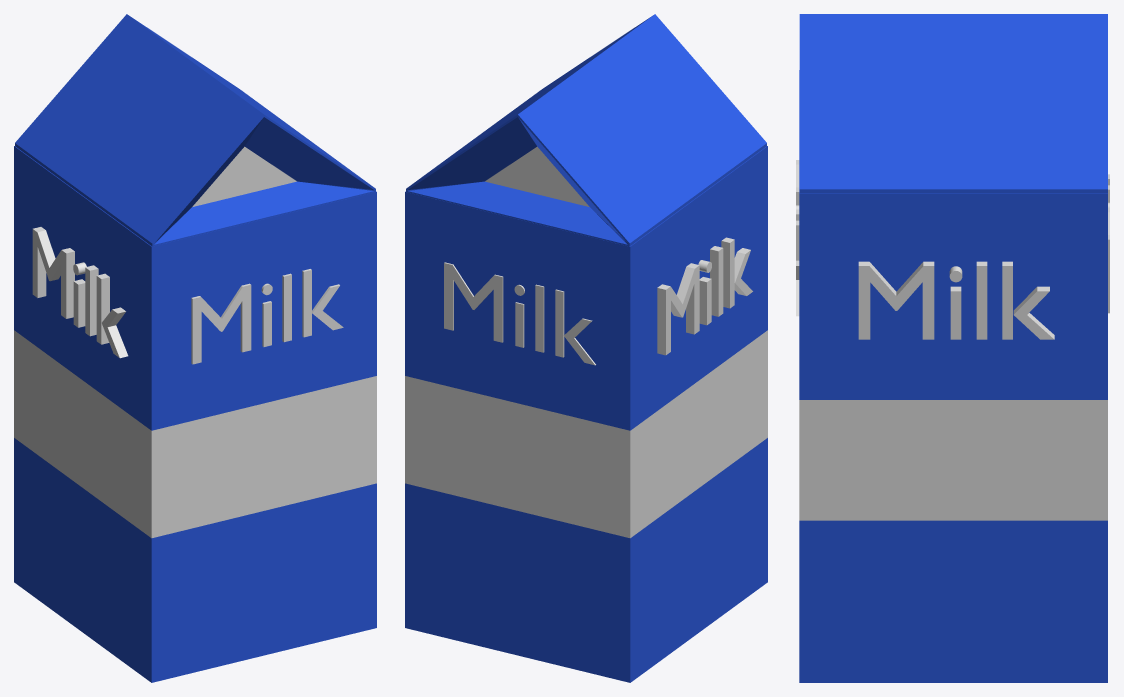
Rendered from Milk.fbx.
3 views of the same model, side by side, from view 1: azimuth 30°, elevation 25°; view 2: azimuth 150°, elevation 25°; view 3: azimuth 270°, elevation 25° (orthographic). The views are drawn at different scales.
Parts seen in each view (by area): view 1: Cube, Cube.001, Text.002, Text; view 2: Cube, Cube.001, Text.002, Text.001; view 3: Cube, Cube.001, Text.003, Text.
Part boxes in pixels (x1,y1,x2,y2): Cube: (14, 146, 376, 682); Cube.001: (15, 14, 375, 246); Text.002: (32, 227, 128, 358); Text: (191, 269, 343, 364); Cube: (405, 146, 767, 682); Cube.001: (406, 14, 766, 246); Text.002: (657, 237, 752, 355); Text.001: (444, 262, 595, 365); Cube: (799, 70, 1107, 682); Cube.001: (799, 14, 1107, 192); Text.003: (858, 261, 1054, 339); Text: (796, 160, 799, 316).
Bounding box in the file's own units: 116 × 248 × 116.
